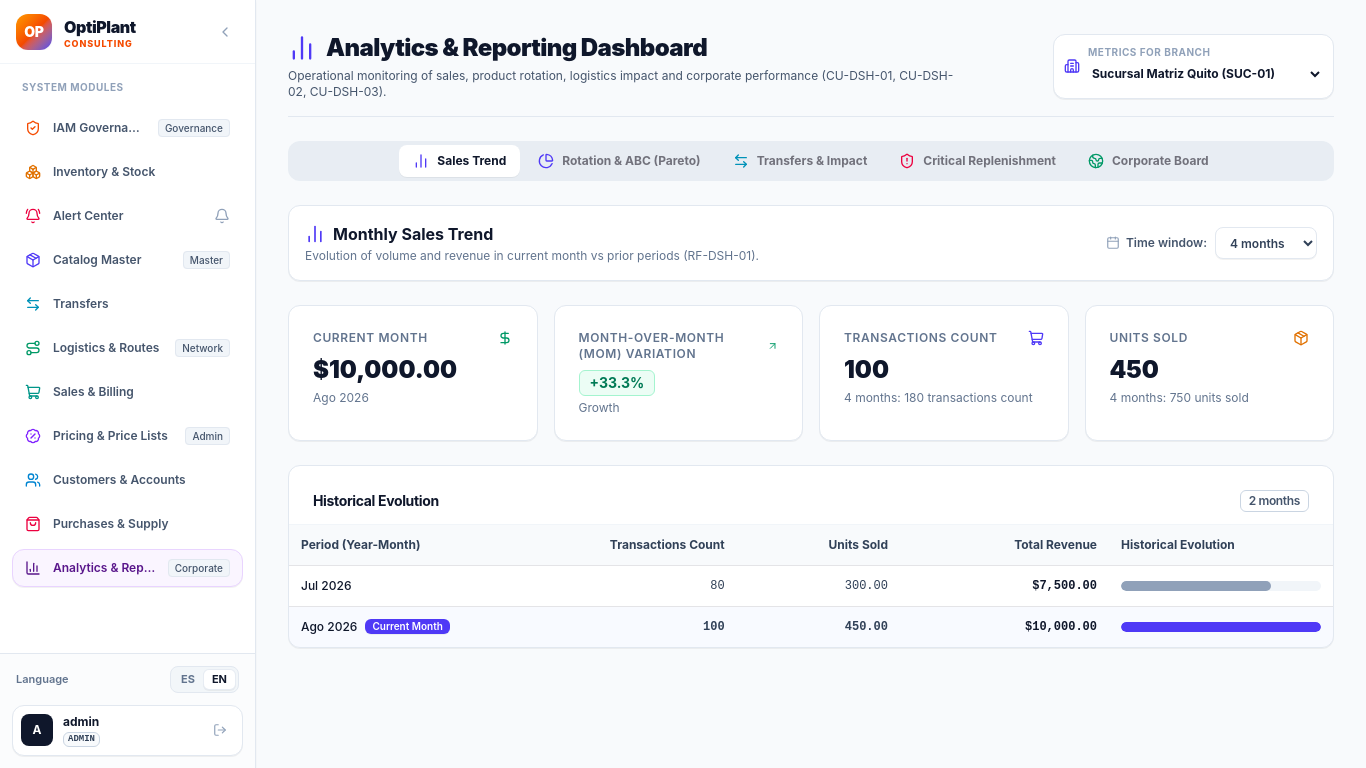
Test: AnalyticsDashboard Component Tests › navigates to Rotation / Pareto ABC tab and displays ABC classification
The image size is (1366, 768).
What coordinates should you click on to do the following:
click the tab "Rotation & ABC (Pareto)"
I would click on:
 (620, 161)
Its box is 524,145 -> 715,177.
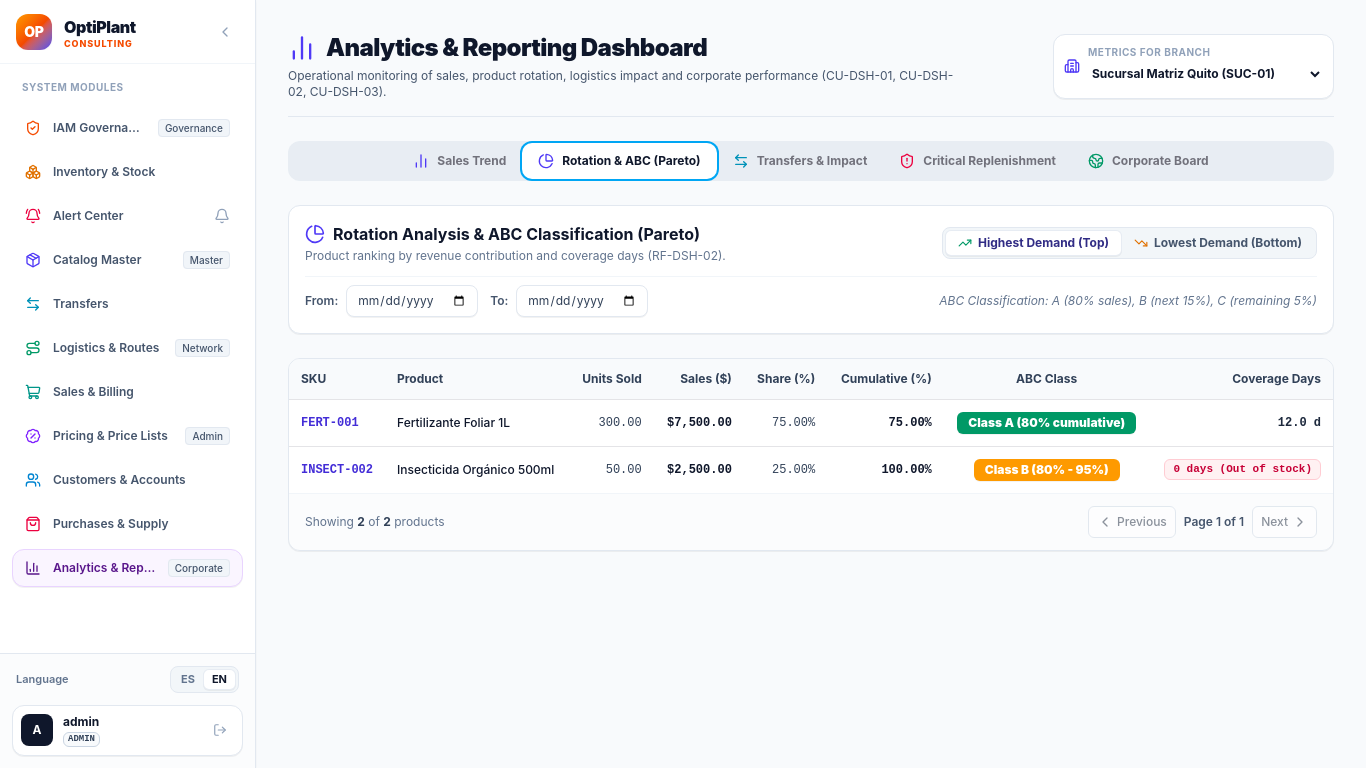
Now the text "FERT-001" is shown, box 289,399 -> 385,446
Now the text "Fertilizante Foliar 1L" is shown, box 385,399 -> 569,446
Now the text "INSECT-002" is shown, box 289,446 -> 385,492
